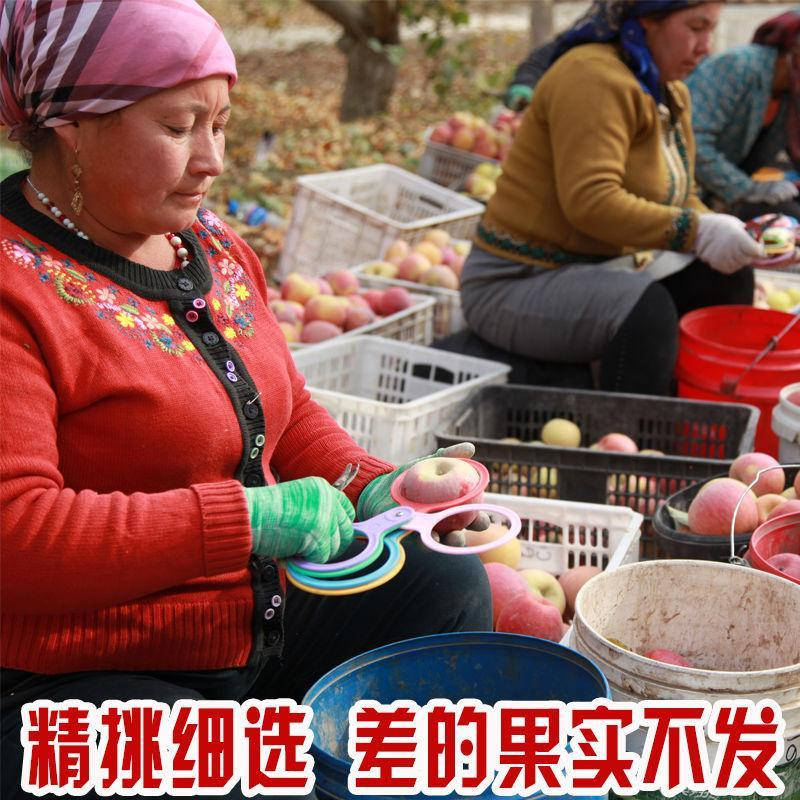apple: (397, 457, 483, 532), (688, 478, 760, 535)
